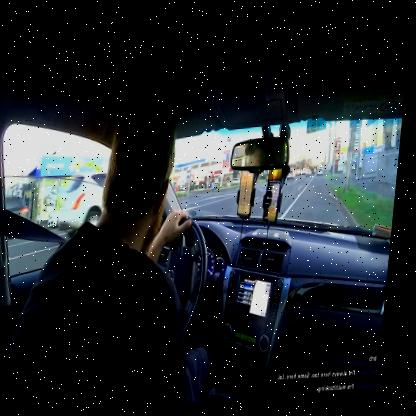streamer: (4, 86, 243, 414)
